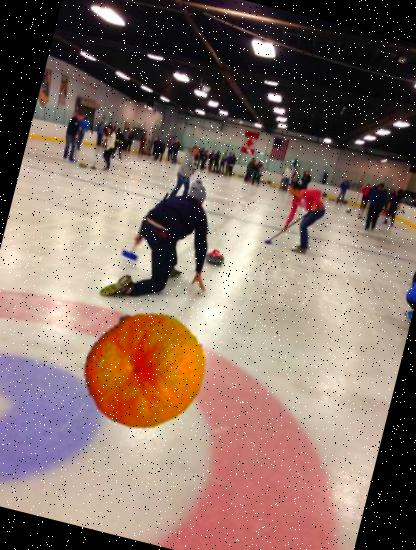Mandarine: (69, 293, 221, 445)
